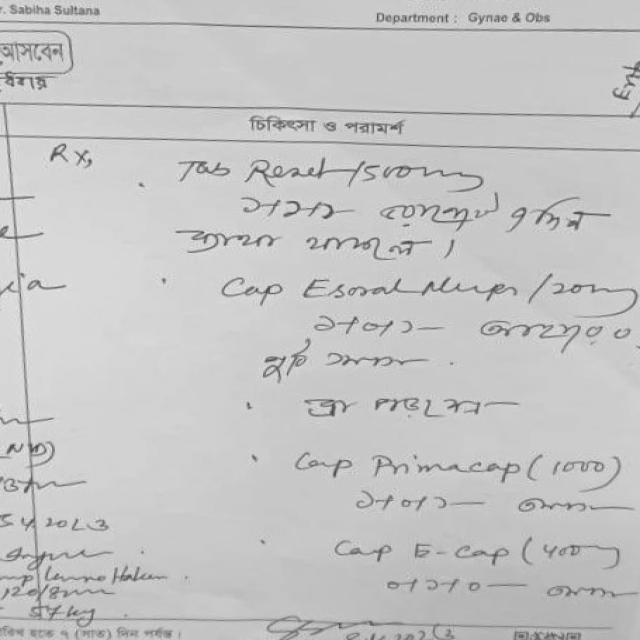medicine: (294, 270, 526, 308), (364, 450, 526, 488), (402, 534, 515, 572), (240, 154, 338, 189)
